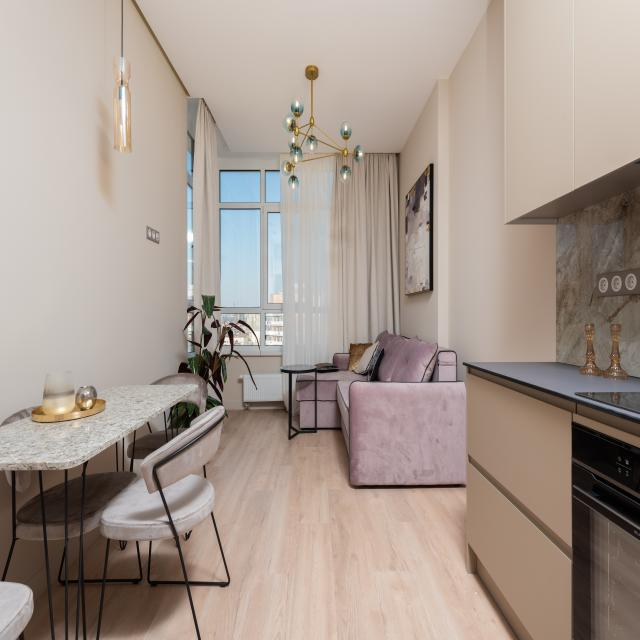floor: (189, 409, 521, 640), (99, 540, 198, 640), (179, 514, 228, 583), (150, 537, 185, 581), (24, 589, 52, 640), (106, 539, 140, 579), (84, 534, 108, 580), (84, 582, 103, 640), (51, 579, 65, 640), (68, 583, 78, 640), (78, 583, 83, 640), (67, 557, 79, 580), (60, 571, 65, 580)
wall: (448, 0, 556, 391), (398, 79, 438, 346), (405, 164, 434, 296), (438, 79, 449, 349)
